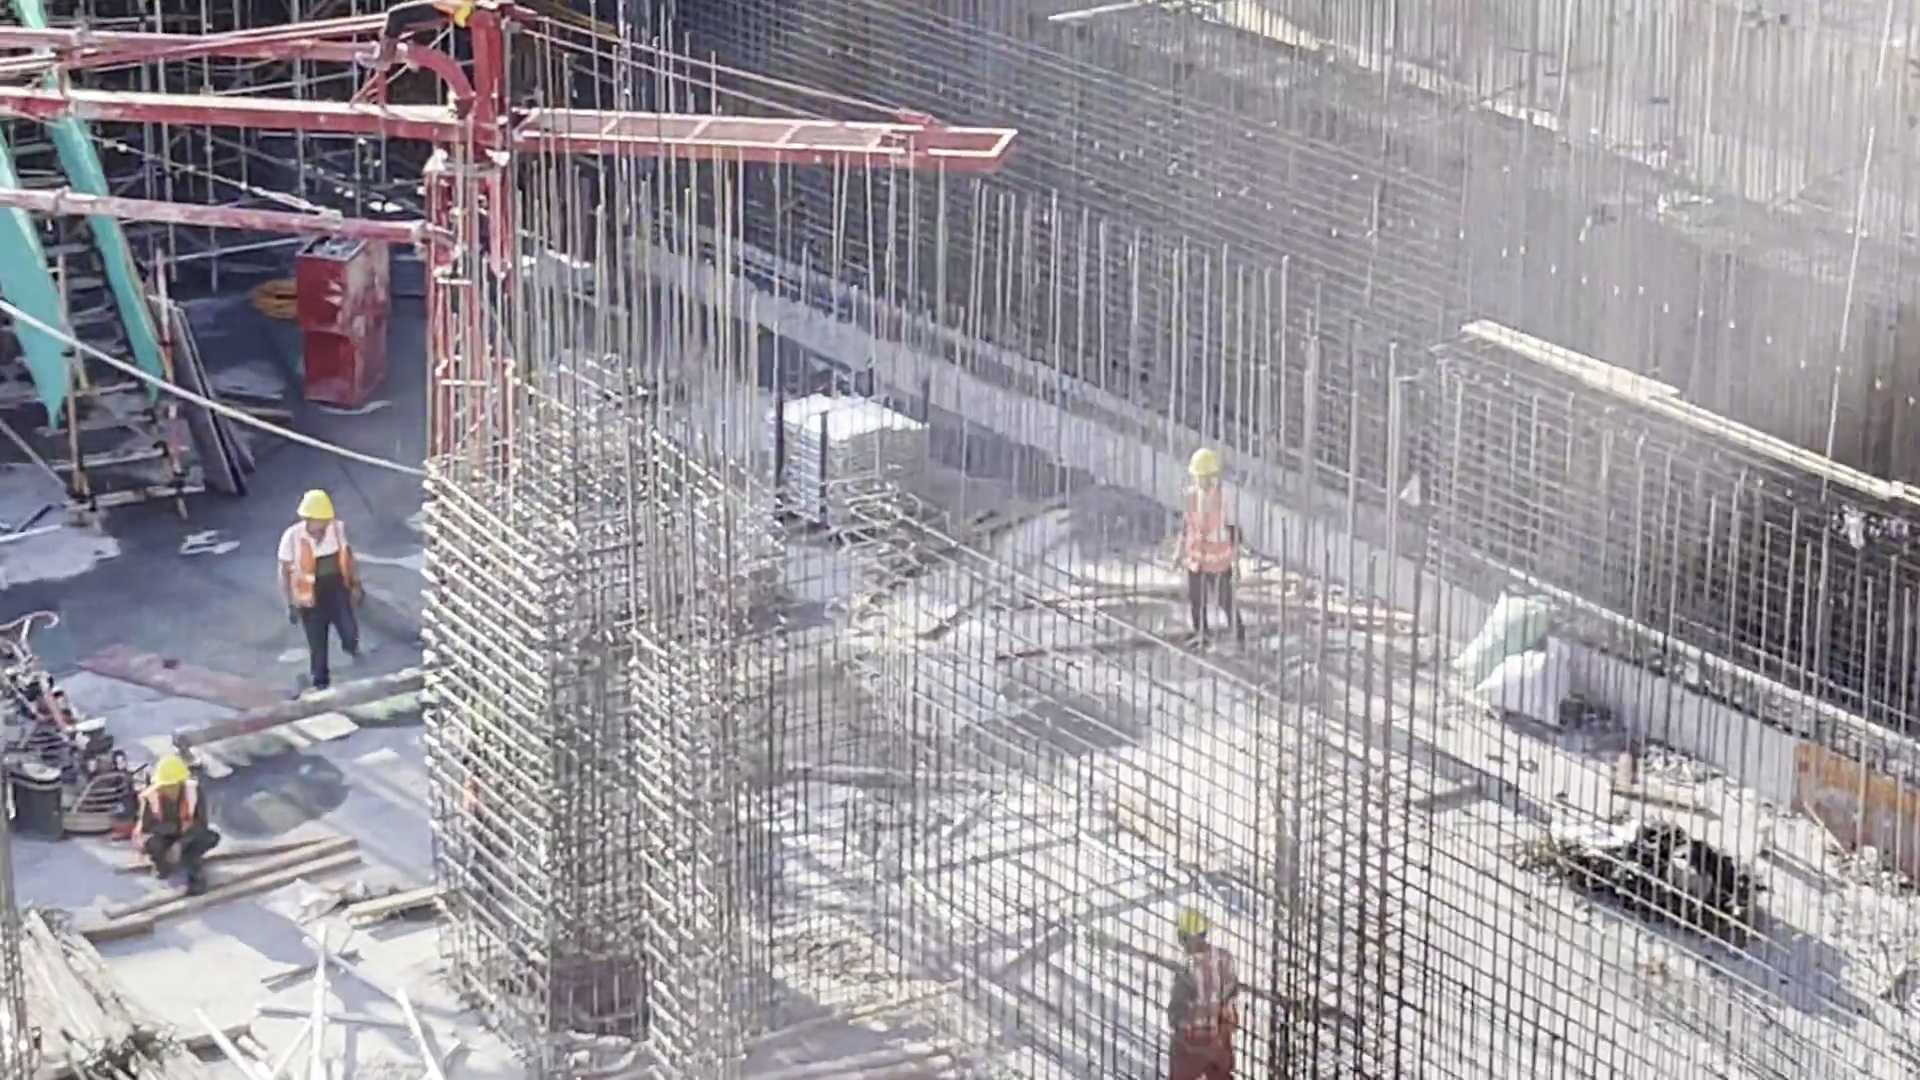helmet: (148, 748, 199, 791), (291, 486, 345, 527), (1170, 906, 1212, 948), (1185, 443, 1237, 478)
person: (267, 486, 406, 671), (1152, 889, 1282, 1080), (126, 732, 228, 904), (1170, 446, 1267, 611)
scaffold: (776, 383, 950, 573)
vest: (266, 518, 375, 603), (1177, 930, 1237, 1048), (1186, 475, 1258, 568), (122, 778, 223, 836)
